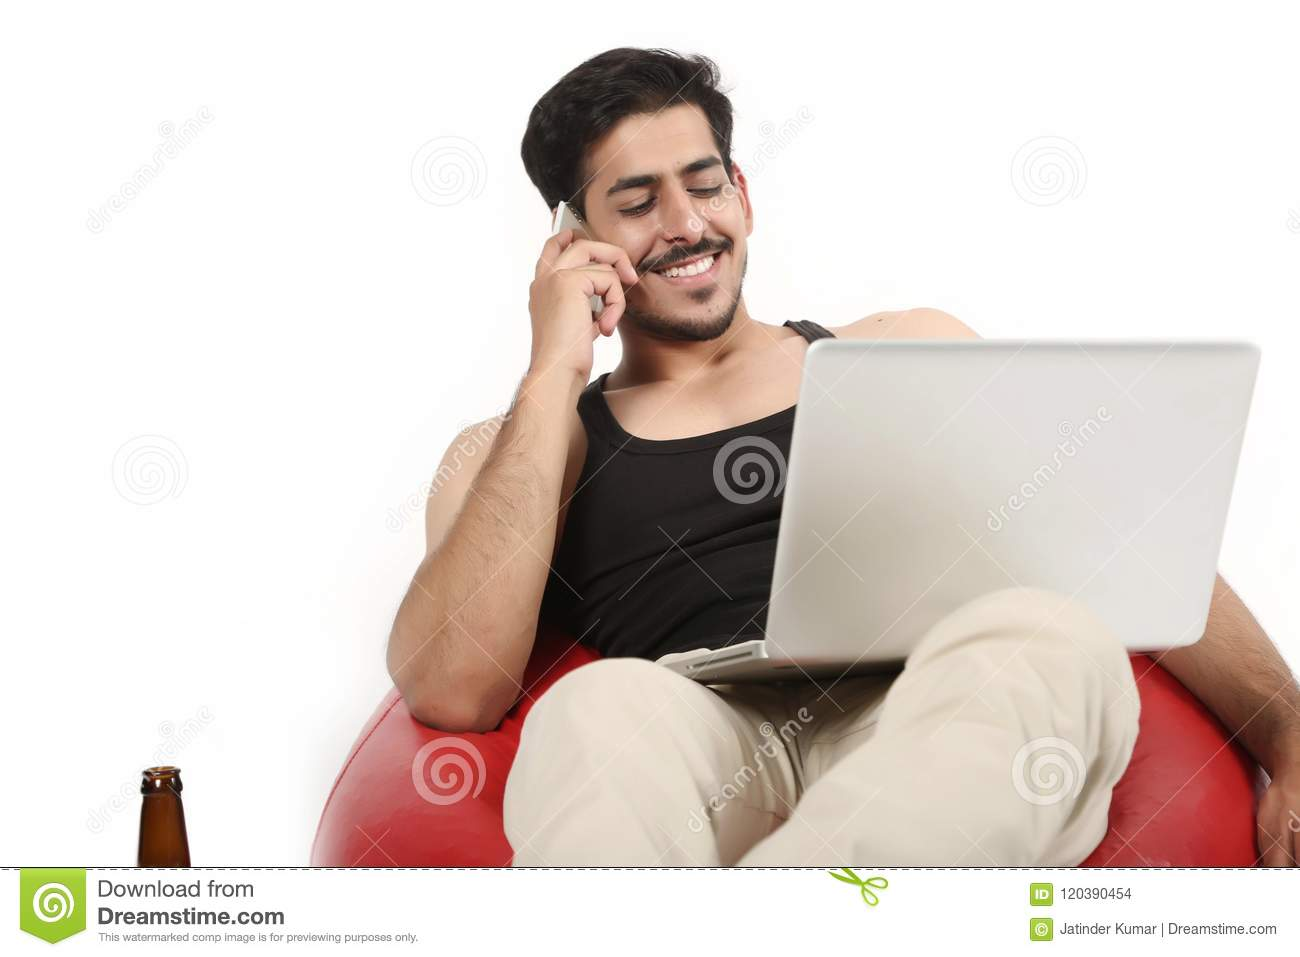phone: (548, 198, 628, 331)
talk: (529, 148, 752, 382)
